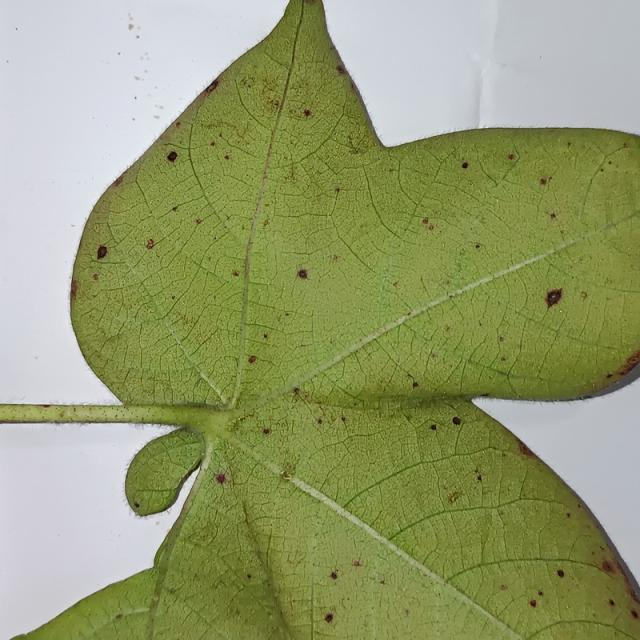Bacterial_Blight: (477, 145, 518, 189), (540, 284, 564, 314), (617, 349, 640, 376), (517, 440, 535, 457), (226, 417, 243, 434), (602, 559, 616, 573), (422, 217, 435, 231), (96, 245, 108, 259), (70, 279, 78, 299), (206, 81, 219, 93), (449, 492, 463, 503), (215, 473, 227, 485), (280, 469, 292, 481), (349, 143, 362, 154), (297, 268, 309, 279), (166, 151, 178, 162), (114, 176, 124, 187), (452, 416, 462, 426), (146, 239, 155, 249), (336, 65, 346, 74), (628, 587, 636, 598), (325, 613, 333, 623), (330, 571, 338, 580), (556, 569, 564, 578), (580, 291, 588, 300), (352, 560, 362, 567), (303, 109, 311, 117), (248, 356, 256, 364), (461, 162, 469, 169), (115, 614, 123, 621), (305, 0, 316, 5), (540, 178, 547, 185), (430, 424, 437, 431), (530, 600, 537, 607), (263, 219, 270, 226), (609, 599, 615, 607), (41, 404, 52, 408), (263, 428, 270, 434), (133, 502, 140, 508), (294, 388, 300, 395), (508, 154, 515, 160), (501, 584, 507, 591), (412, 382, 419, 388), (232, 271, 239, 277), (93, 274, 99, 281), (404, 609, 410, 616), (477, 474, 482, 482), (636, 610, 640, 619), (422, 218, 428, 224), (550, 213, 556, 219), (475, 243, 481, 249), (317, 418, 323, 424), (538, 590, 544, 596), (172, 206, 178, 212), (499, 336, 505, 342), (332, 255, 338, 261), (175, 122, 181, 128), (379, 579, 385, 585), (606, 373, 613, 378), (335, 187, 340, 193), (196, 219, 201, 225), (224, 155, 230, 160), (210, 142, 216, 147), (341, 416, 346, 422), (393, 281, 398, 287), (263, 333, 268, 338), (246, 574, 251, 579), (624, 142, 629, 147), (566, 513, 571, 518), (608, 161, 612, 165), (600, 168, 604, 172)
Cotton: (20, 0, 639, 639)
